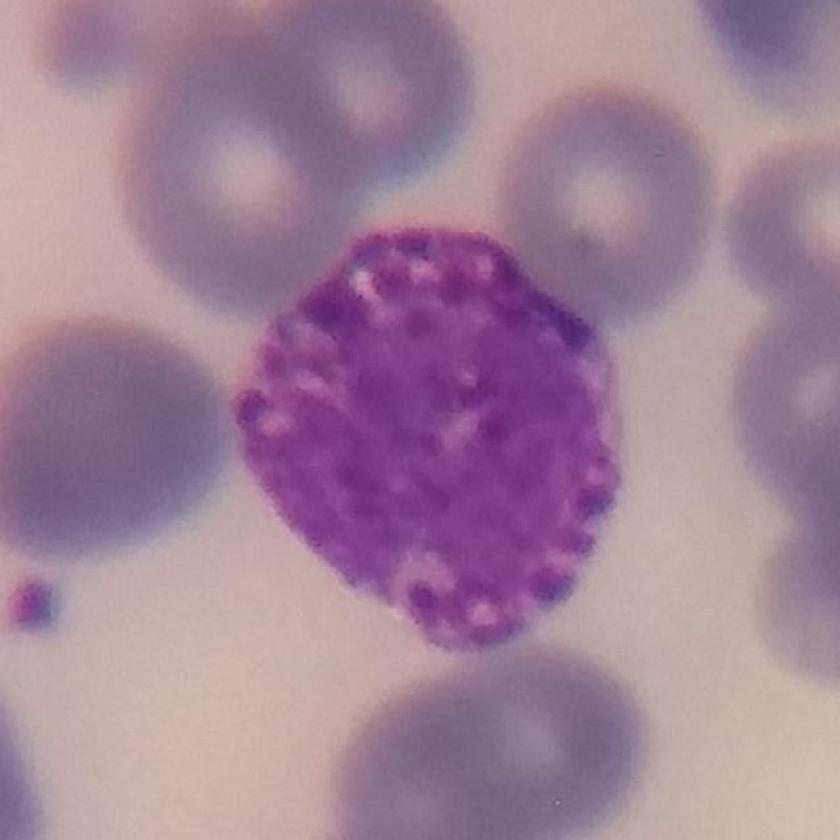basophil: (224, 216, 643, 665)
